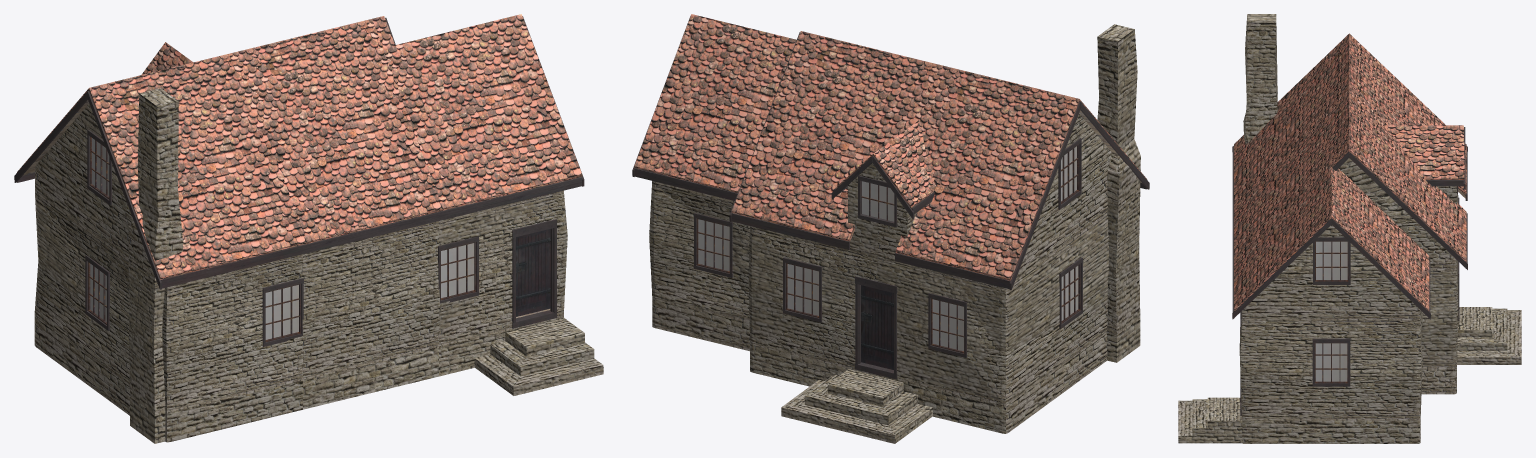
Rendered from brickHouse1.fbx.
The picture shows the model from 3 angles, left to right: view 1: azimuth 30°, elevation 25°; view 2: azimuth 150°, elevation 25°; view 3: azimuth 270°, elevation 25°; orthographic projection. The views are drawn at different scales.
Parts seen in each view (by area): view 1: roof, base, second floor, steps, door.back; view 2: roof, base, second floor, steps, door.front; view 3: roof, base, second floor, steps.
Boxes of the visible parts, bbox=[...] form: roof: bbox=[14, 14, 584, 289]; base: bbox=[34, 88, 567, 443]; second floor: bbox=[35, 103, 563, 289]; steps: bbox=[474, 317, 603, 395]; door.back: bbox=[516, 229, 550, 316]; roof: bbox=[632, 14, 1149, 290]; base: bbox=[649, 24, 1140, 433]; second floor: bbox=[652, 114, 1111, 288]; steps: bbox=[781, 369, 932, 443]; door.front: bbox=[861, 285, 893, 369]; roof: bbox=[1232, 33, 1467, 319]; base: bbox=[1239, 14, 1459, 443]; second floor: bbox=[1241, 158, 1457, 320]; steps: bbox=[1178, 307, 1521, 443].
Size of the model in its own units: 14.5 by 10.95 by 12.6.
